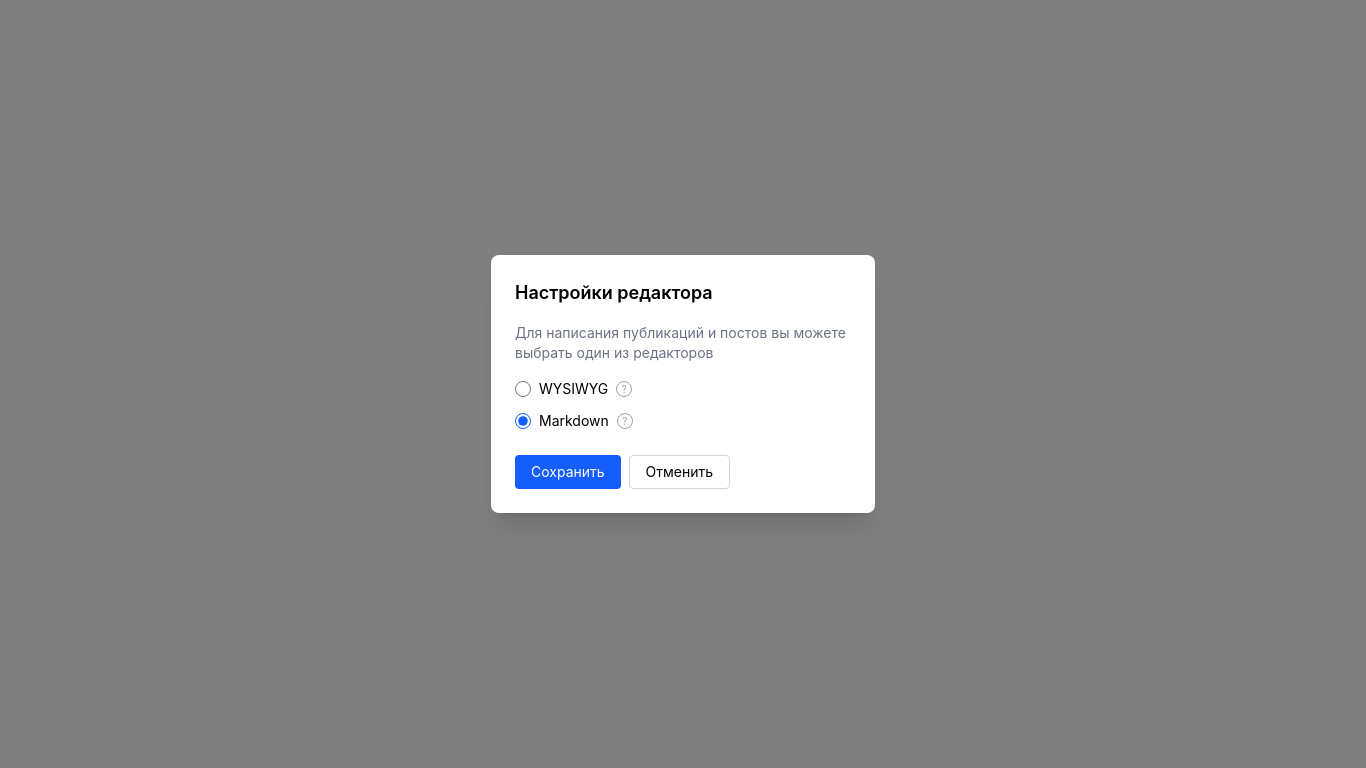
EditorSettingsModal › switches selection when the other radio is clicked
Step 1. Click the radio button labelled "WYSIWYG ?" → (523, 389), box [515,381,531,397]
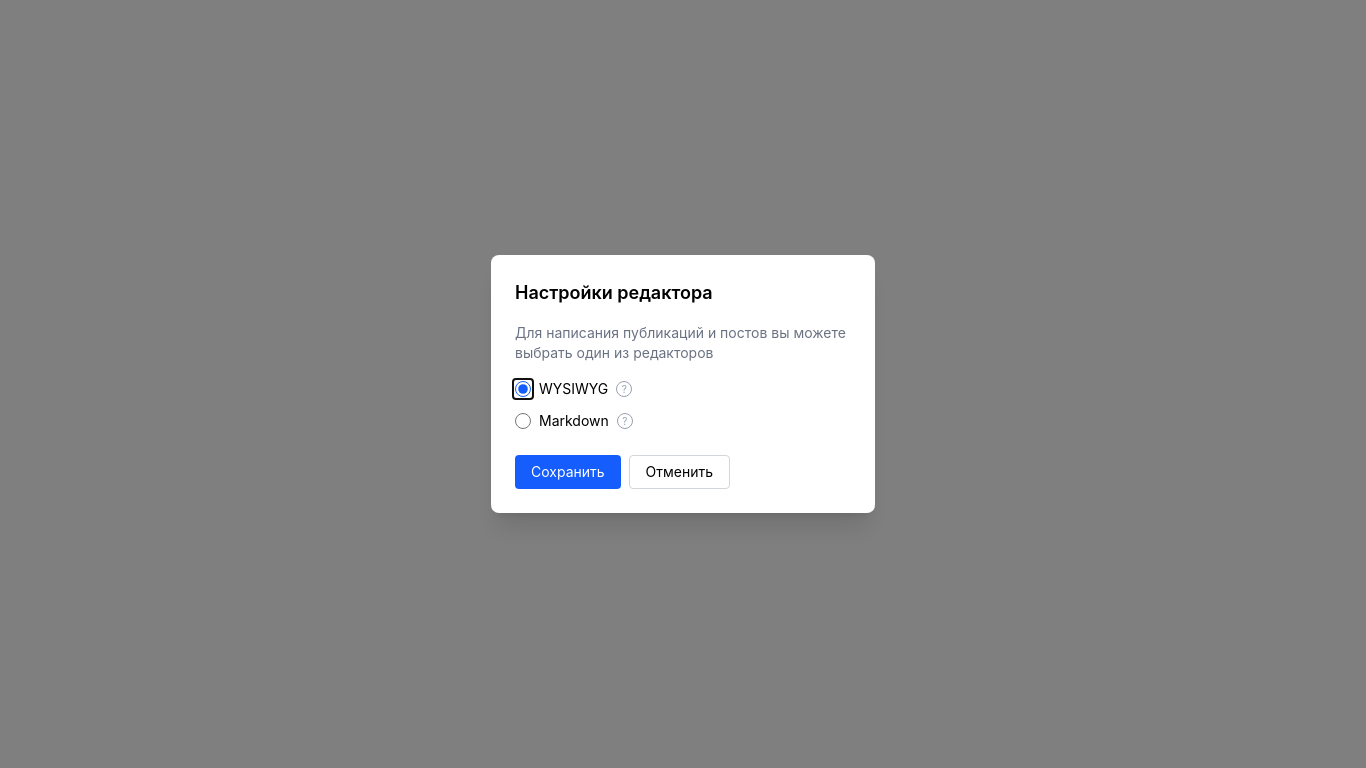
Now the radio button labelled "WYSIWYG ?" is checked, box [515,381,531,397]
Now the radio button labelled "Markdown ?" is not checked, box [515,413,531,429]
